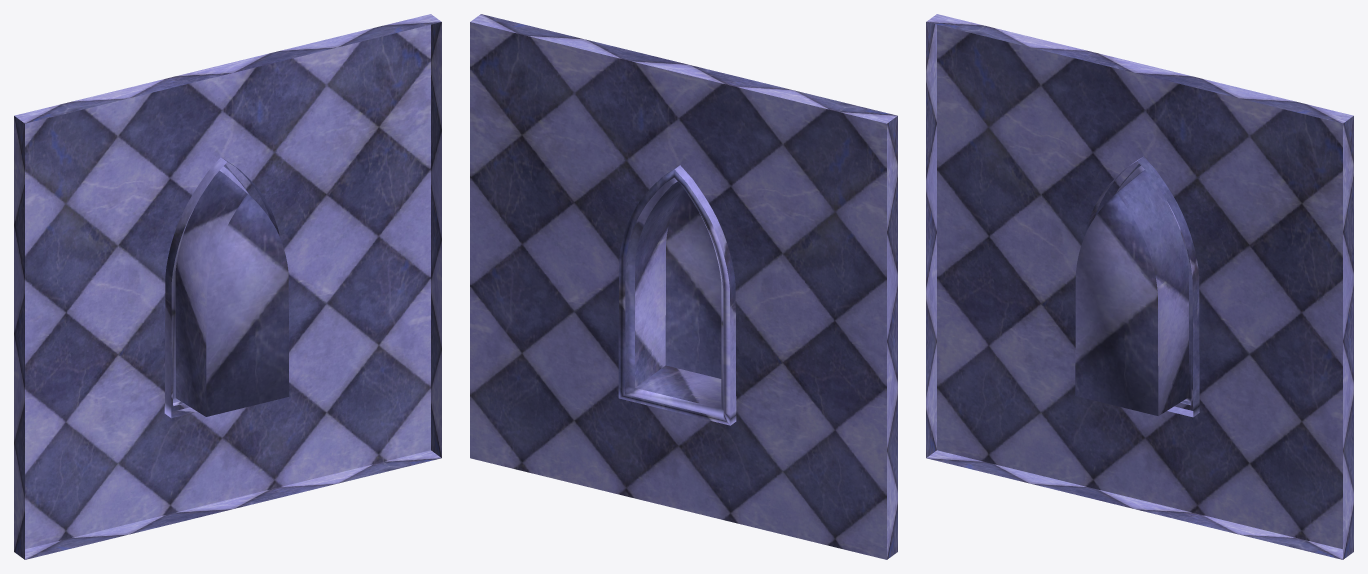
The model's file is hub_wall_cubby.fbx.
3 views of the same model, side by side, from view 1: azimuth 30°, elevation 25°; view 2: azimuth 150°, elevation 25°; view 3: azimuth 330°, elevation 25° (orthographic).
Visible parts, largest first — view 1: wall_, window_cubby; view 2: wall_, window_cubby; view 3: wall_, window_cubby.
Boxes of the visible parts, x1,y1,x2,y2 form: wall_: [14, 14, 441, 559]; window_cubby: [164, 157, 289, 418]; wall_: [470, 14, 897, 559]; window_cubby: [618, 165, 736, 425]; wall_: [926, 14, 1353, 559]; window_cubby: [1075, 156, 1199, 417].
Size of the model in its own units: 22.5 by 22.5 by 3.07.
